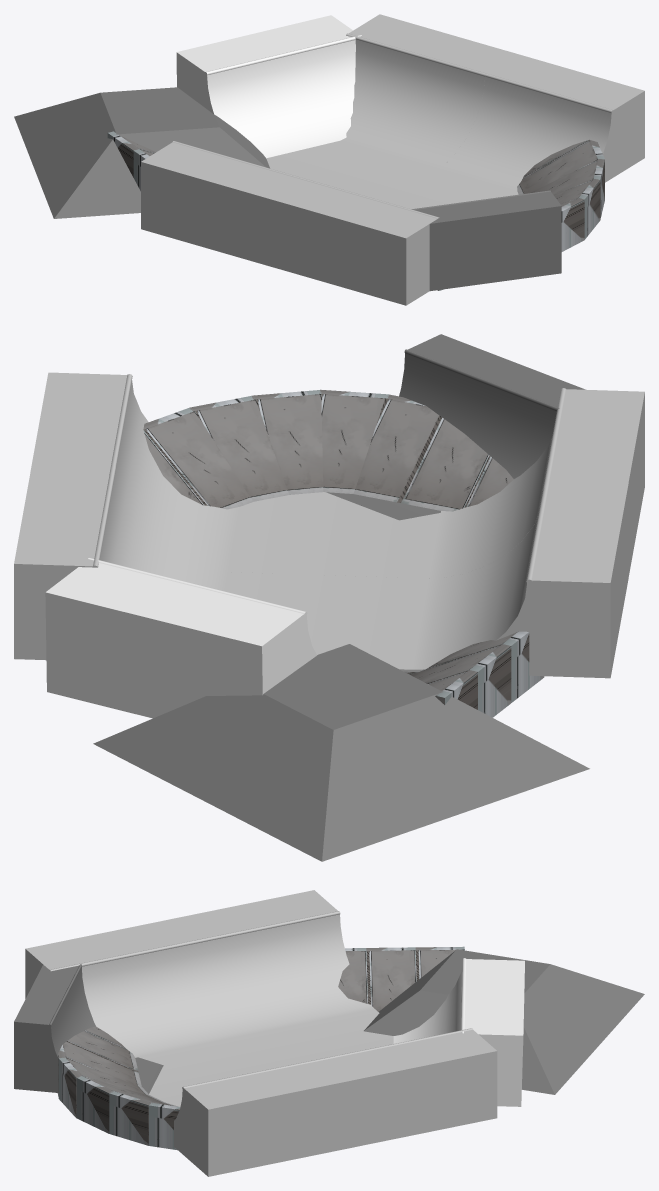
Rendered from LeDome.fbx.
The picture shows the model from 3 angles, top to bottom: view 1: azimuth 30°, elevation 25°; view 2: azimuth 150°, elevation 25°; view 3: azimuth 270°, elevation 25°; orthographic projection. The views are drawn at different scales.
Visible parts, largest first — view 1: half_pipe, half_pipe_1, half_half_pipe__4_, pyramid, half_half_pipe__3_, flat_ramp_1_6, flat_ramp_1_4, flat_ramp_1_5, flat_ramp_1_3, flat_ramp_1_1; view 2: half_pipe, pyramid, half_pipe_1, half_half_pipe__4_, half_half_pipe__3_, flat_ramp_1_6, flat_ramp_1_5, flat_ramp_1_7, flat_ramp_1_4, flat_ramp_1_9, flat_ramp_1_3, flat_ramp_1 (+4 smaller); view 3: half_pipe_1, half_pipe, pyramid, half_half_pipe__4_, half_half_pipe__3_, flat_ramp_1, flat_ramp_1_5, flat_ramp_1_4, flat_ramp_1_3, flat_ramp_1_7, flat_ramp_1_2, flat_ramp_1_9 (+2 smaller).
Boxes of the visible parts, box(x1,y1,x2,y2) form: half_pipe: box(141, 14, 517, 268); half_pipe_1: box(270, 51, 644, 305); half_half_pipe__4_: box(176, 15, 361, 158); pyramid: box(14, 87, 269, 218); half_half_pipe__3_: box(411, 190, 561, 291); flat_ramp_1_6: box(517, 139, 604, 194); flat_ramp_1_4: box(553, 179, 600, 239); flat_ramp_1_5: box(531, 159, 604, 217); flat_ramp_1_3: box(560, 198, 584, 251); flat_ramp_1_1: box(107, 131, 155, 177); half_pipe: box(14, 463, 628, 678); pyramid: box(93, 644, 589, 861); half_pipe_1: box(30, 372, 644, 578); half_half_pipe__4_: box(45, 558, 316, 718); half_half_pipe__3_: box(326, 334, 585, 520); flat_ramp_1_6: box(143, 408, 253, 509); flat_ramp_1_5: box(189, 396, 289, 501); flat_ramp_1_7: box(353, 394, 438, 502); flat_ramp_1_4: box(252, 390, 323, 494); flat_ramp_1_9: box(397, 415, 489, 511); flat_ramp_1_3: box(319, 389, 388, 493); flat_ramp_1: box(407, 644, 511, 717); half_pipe_1: box(25, 918, 359, 1176); half_pipe: box(164, 890, 497, 1145); pyramid: box(364, 949, 644, 1094); half_half_pipe__4_: box(393, 958, 524, 1106); half_half_pipe__3_: box(14, 964, 163, 1093); flat_ramp_1: box(366, 947, 416, 1011); flat_ramp_1_5: box(109, 1091, 177, 1145); flat_ramp_1_4: box(76, 1076, 164, 1133); flat_ramp_1_3: box(58, 1057, 148, 1118); flat_ramp_1_7: box(57, 1042, 141, 1096); flat_ramp_1_2: box(338, 948, 367, 1003); flat_ramp_1_9: box(66, 1031, 138, 1072).
Bounding box in the file's own units: 2764 × 467 × 3104.
